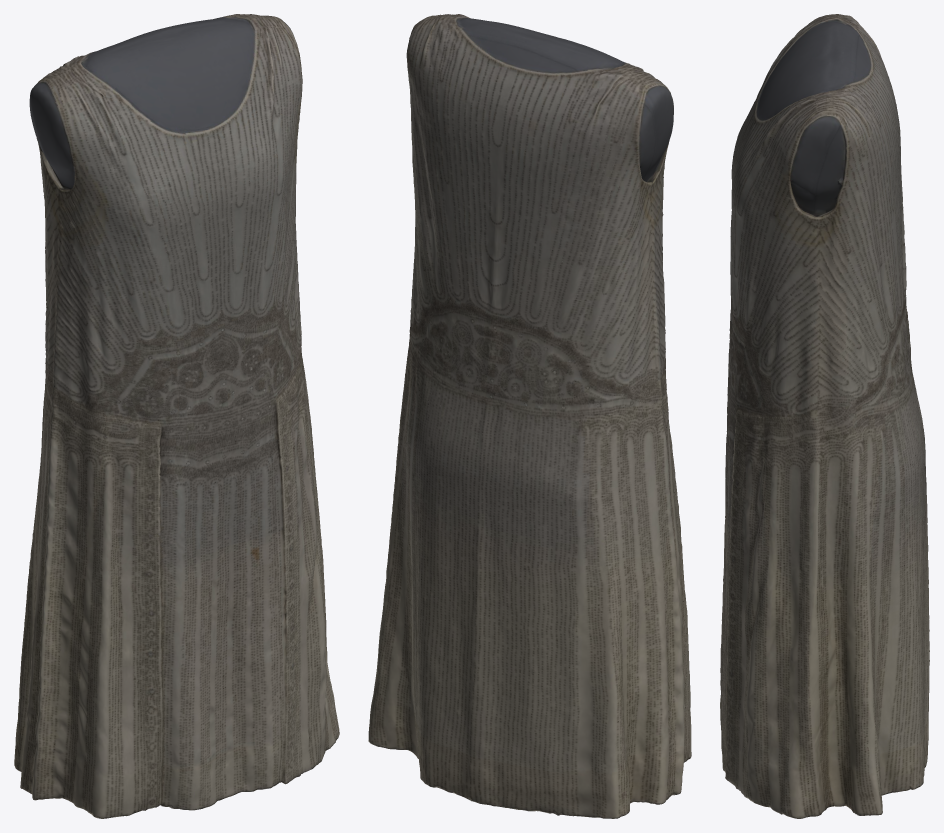
File: smithsoniandress.gltf
3 renders of one model, left to right at view 1: azimuth 30°, elevation 25°; view 2: azimuth 150°, elevation 25°; view 3: azimuth 270°, elevation 25°, orthographic. The views are drawn at different scales.
Bounding box in the file's own units: 0.4293 × 1.03 × 0.2753.
